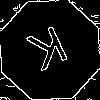K: (25, 25, 75, 80)
